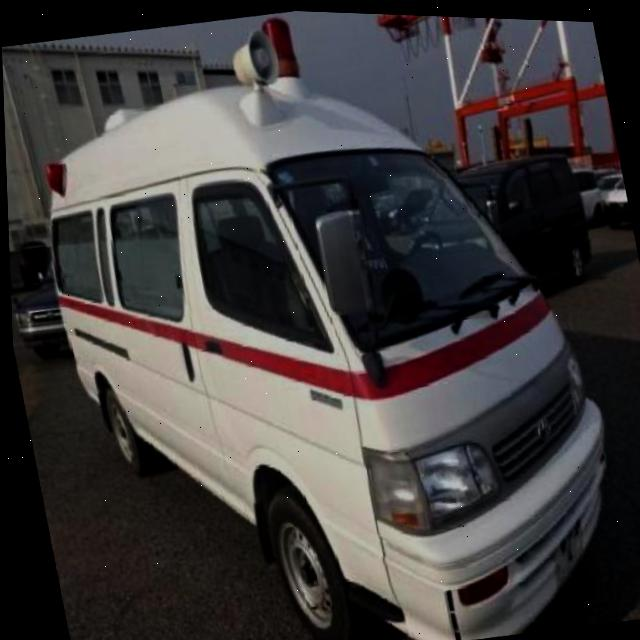emergency: (7, 0, 640, 640)
